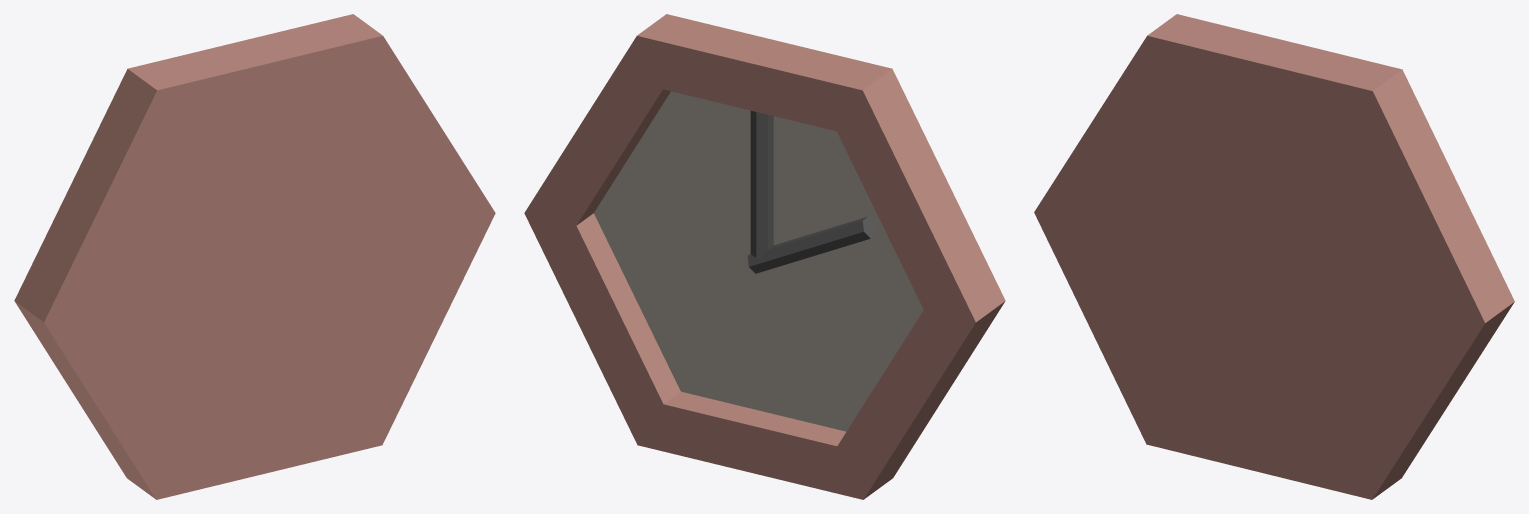
Rendered from wall_clock.fbx.
The picture shows the model from 3 angles, left to right: view 1: azimuth 30°, elevation 25°; view 2: azimuth 150°, elevation 25°; view 3: azimuth 330°, elevation 25°; orthographic projection.
Parts seen in each view (by area): view 1: Clock; view 2: Clock, Cylinder.011, Cylinder.012; view 3: Clock.
Part boxes in pixels (bbox=[...]): Clock: bbox=[14, 14, 495, 499]; Clock: bbox=[524, 14, 1005, 499]; Cylinder.011: bbox=[750, 110, 773, 257]; Cylinder.012: bbox=[747, 216, 876, 273]; Clock: bbox=[1034, 14, 1514, 499].
Size of the model in its own units: 90.29 by 78.27 by 10.29.
